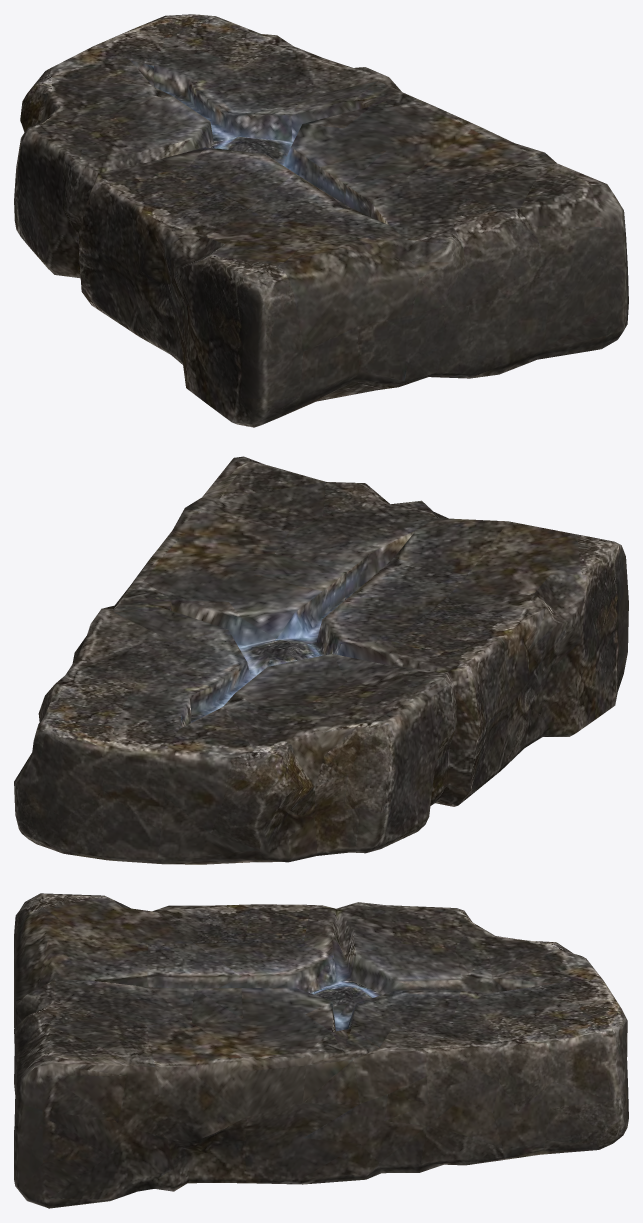
The model's file is g_rune.glb.
3 renders of one model, top to bottom at view 1: azimuth 30°, elevation 25°; view 2: azimuth 150°, elevation 25°; view 3: azimuth 270°, elevation 25°, orthographic. The views are drawn at different scales.
Visible parts, largest first — view 1: g_rune; view 2: g_rune; view 3: g_rune.
Part boxes in pixels (x1,y1,x2,y2): g_rune: [14, 14, 628, 427]; g_rune: [14, 456, 628, 864]; g_rune: [14, 893, 628, 1208].
Bounding box in the file's own units: 0.1566 × 0.06 × 0.2265.
Materials: 1 (1 with a texture image).
